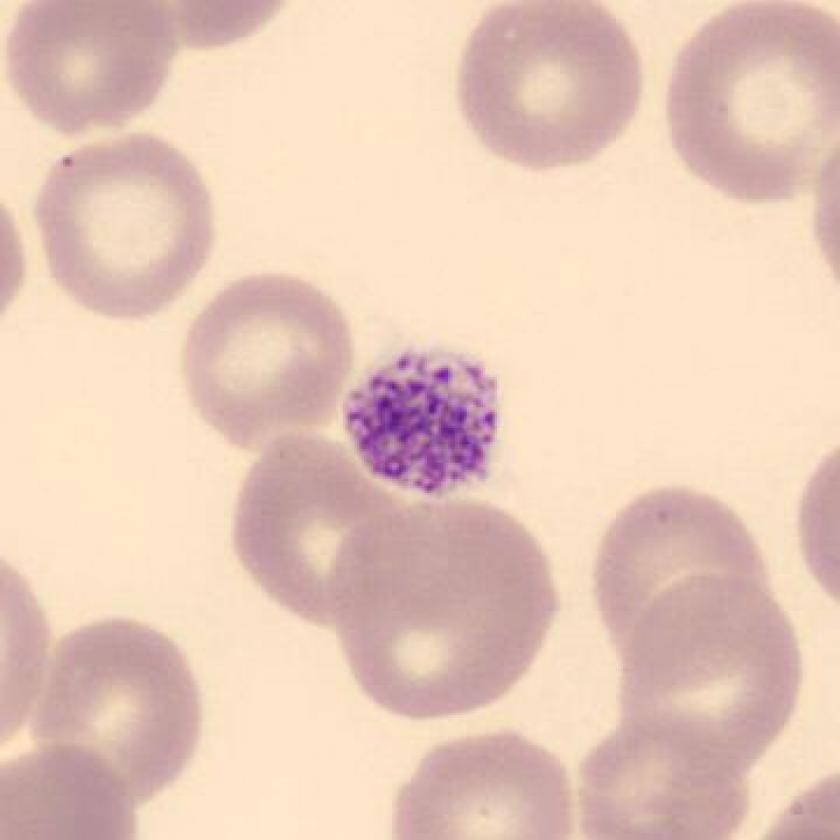platelets: (335, 346, 514, 498)
